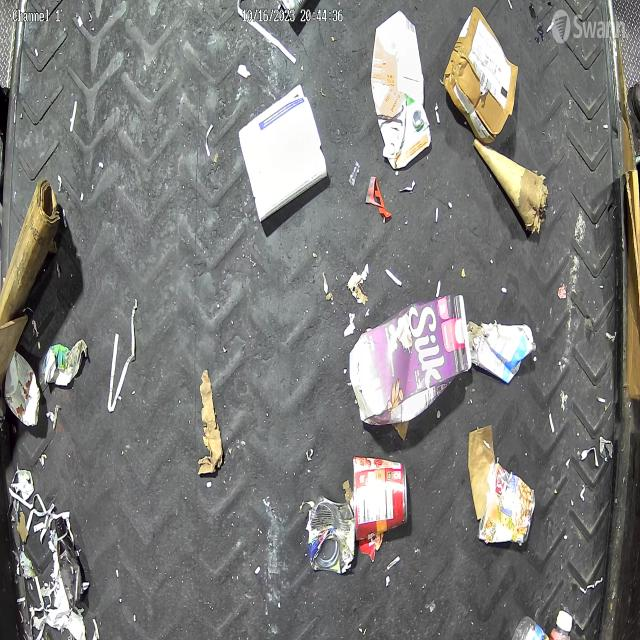can: (352, 454, 409, 540), (478, 461, 536, 544), (306, 494, 356, 575), (3, 349, 40, 432)
non_white_jug: (350, 294, 472, 429), (372, 7, 432, 168)
